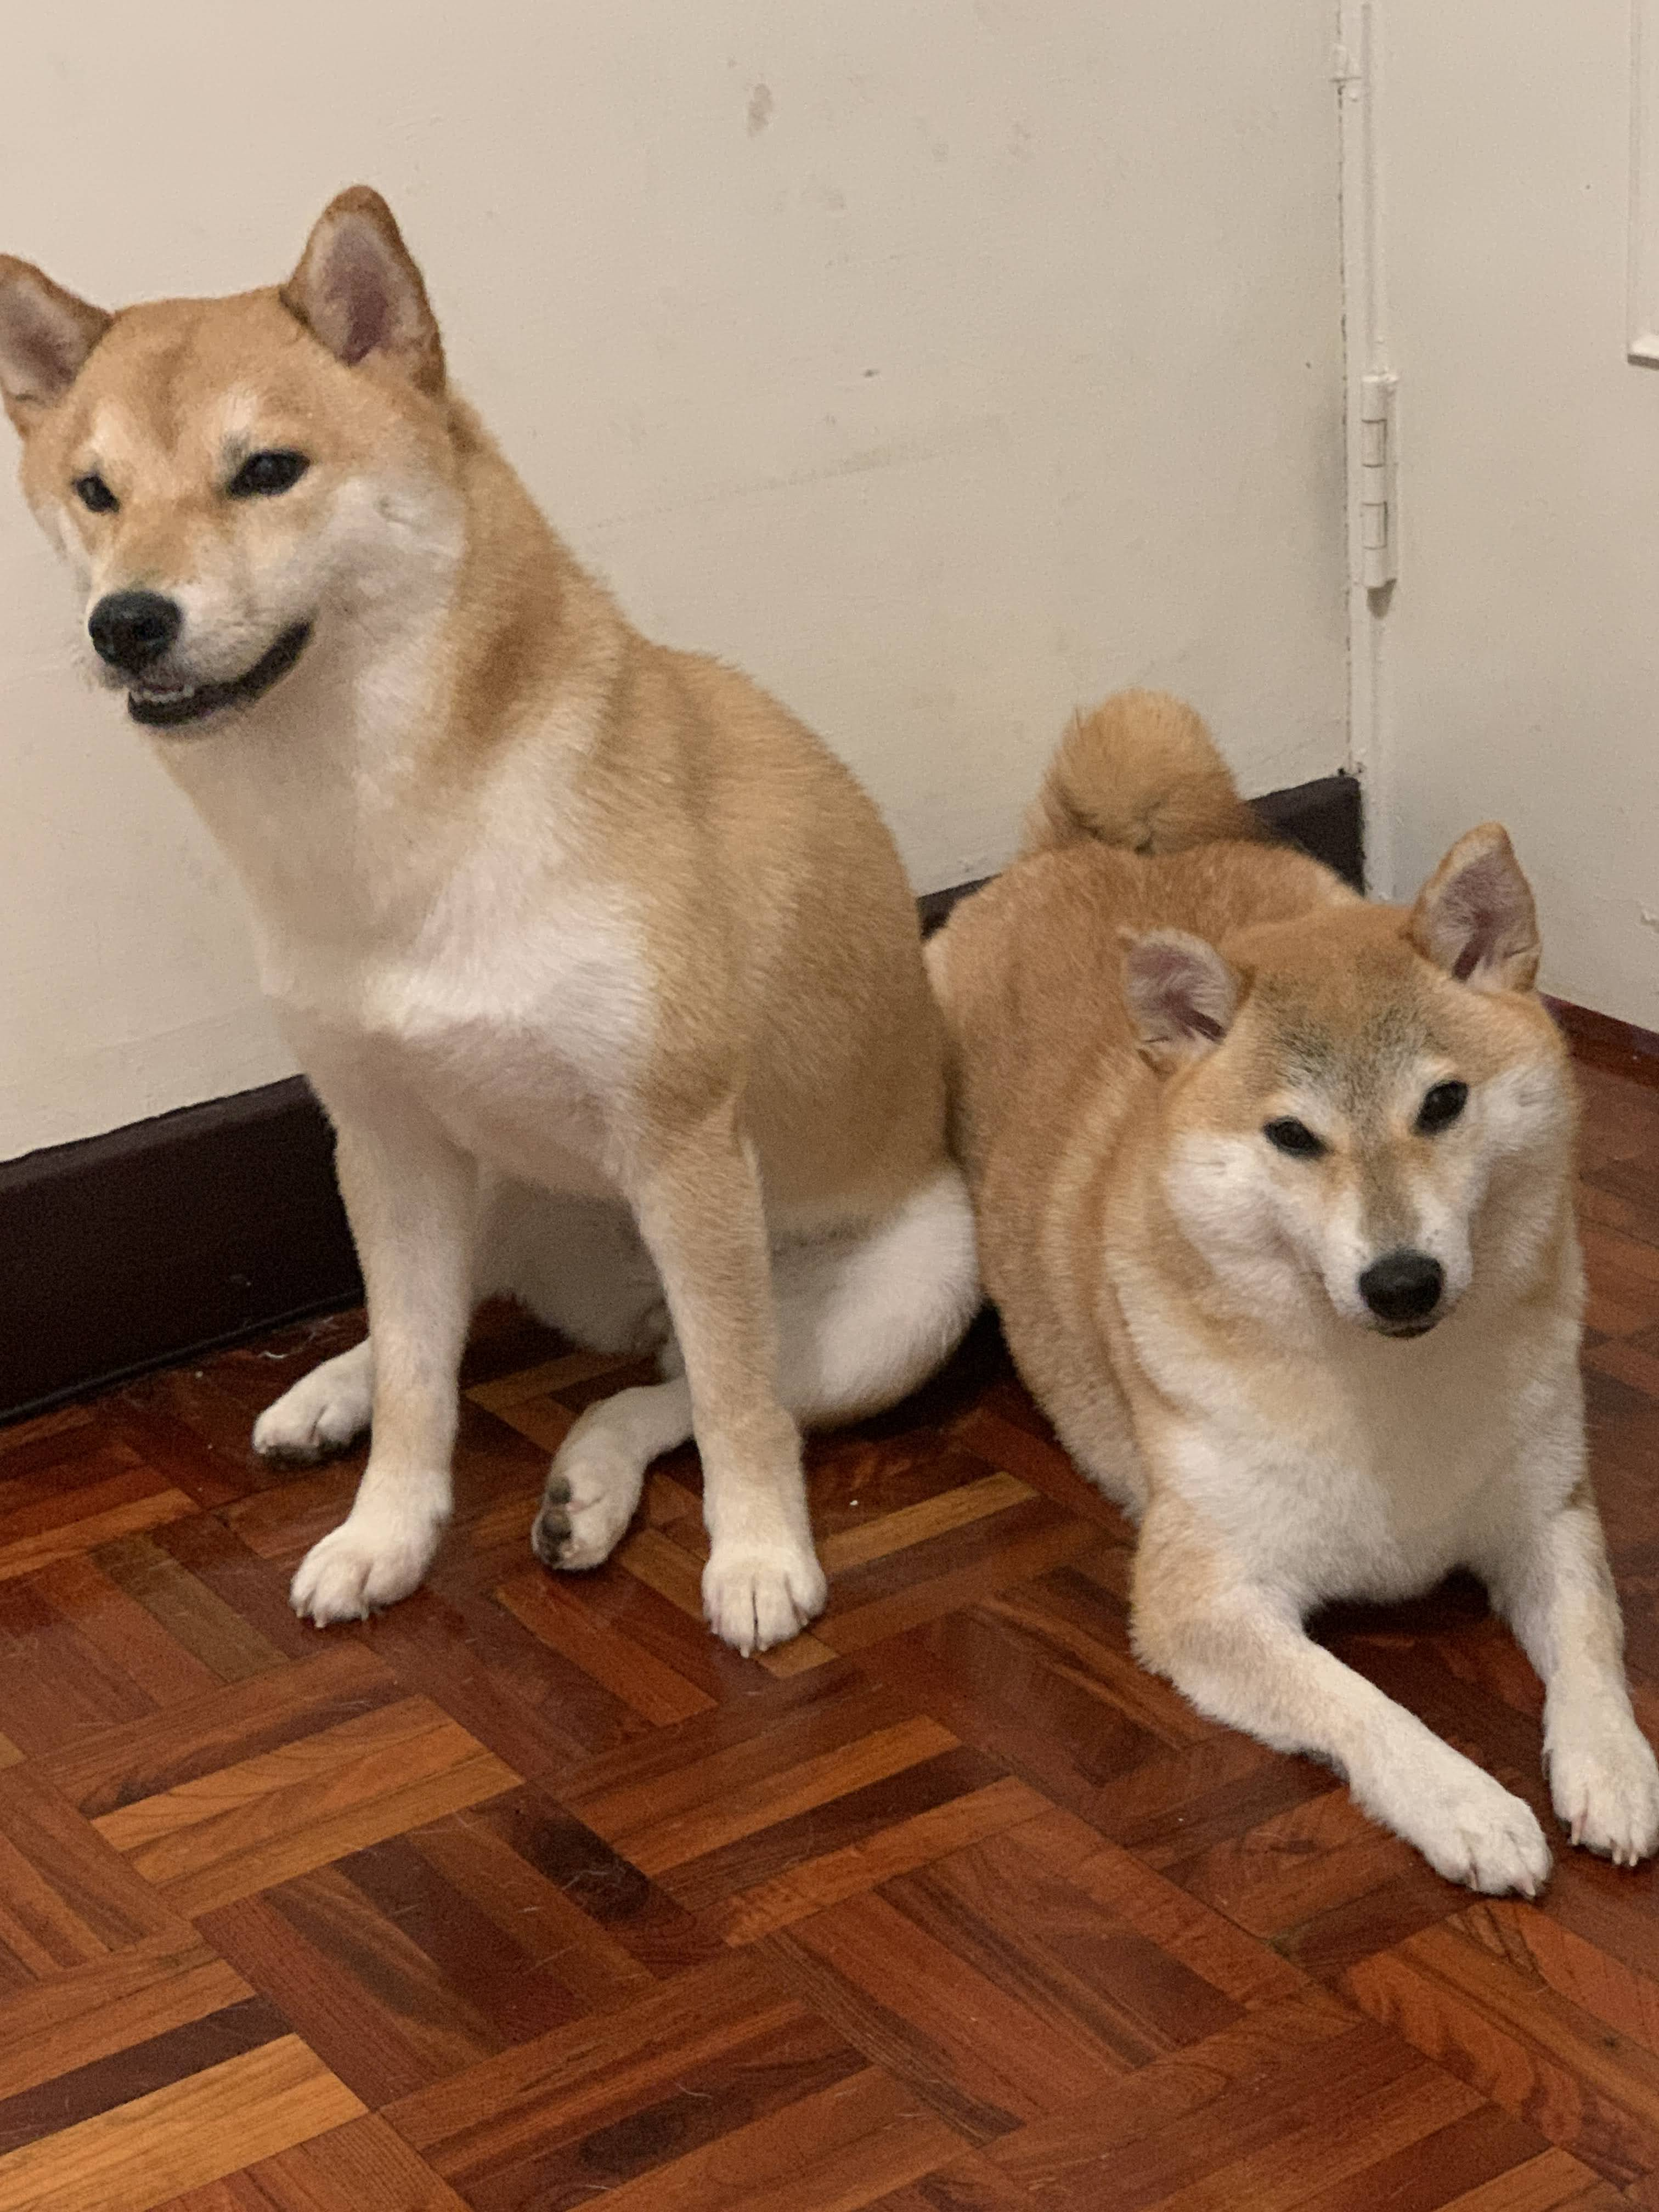Lie down: (972, 662, 1659, 1874)
Sit down: (7, 225, 978, 1740)
